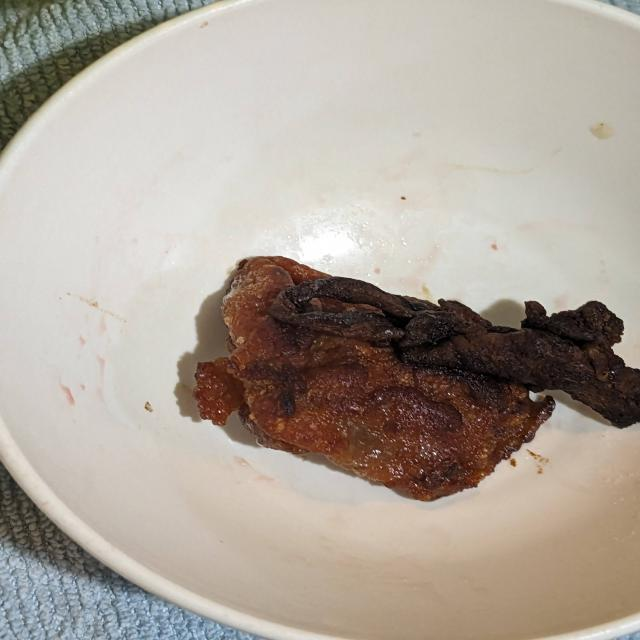overcooked pork: (186, 244, 640, 511)
